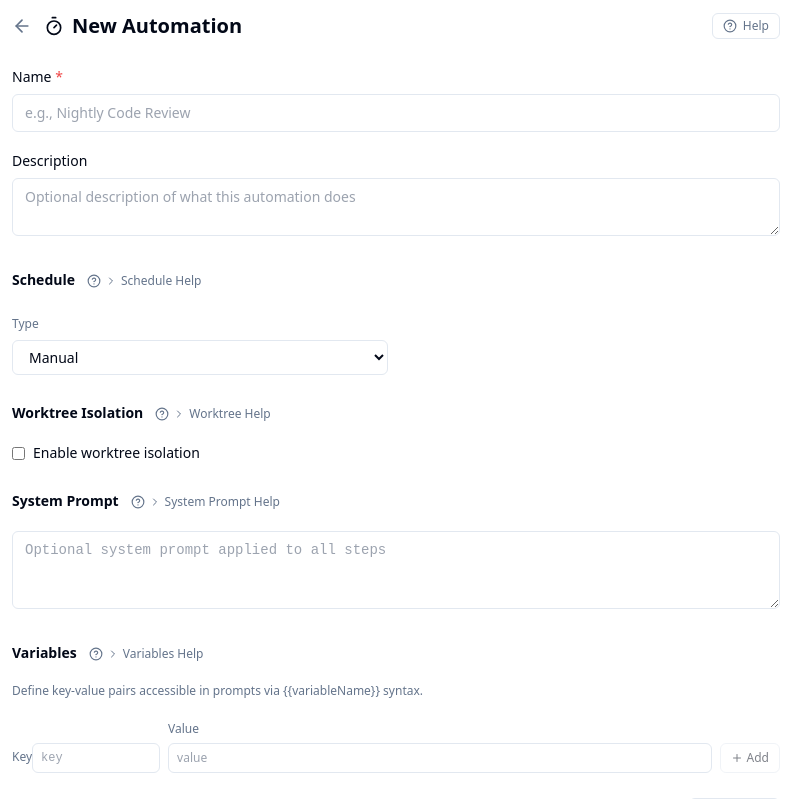
Test: AutomationEditorPage › shows 'Run At' input when schedule type is set to once
This screenshot has width=797, height=799.
Expected: the field labelled "Run At" is not shown
Select "One-time" in the dropdown labelled "Type" at (200, 358), box [12,340,388,375]
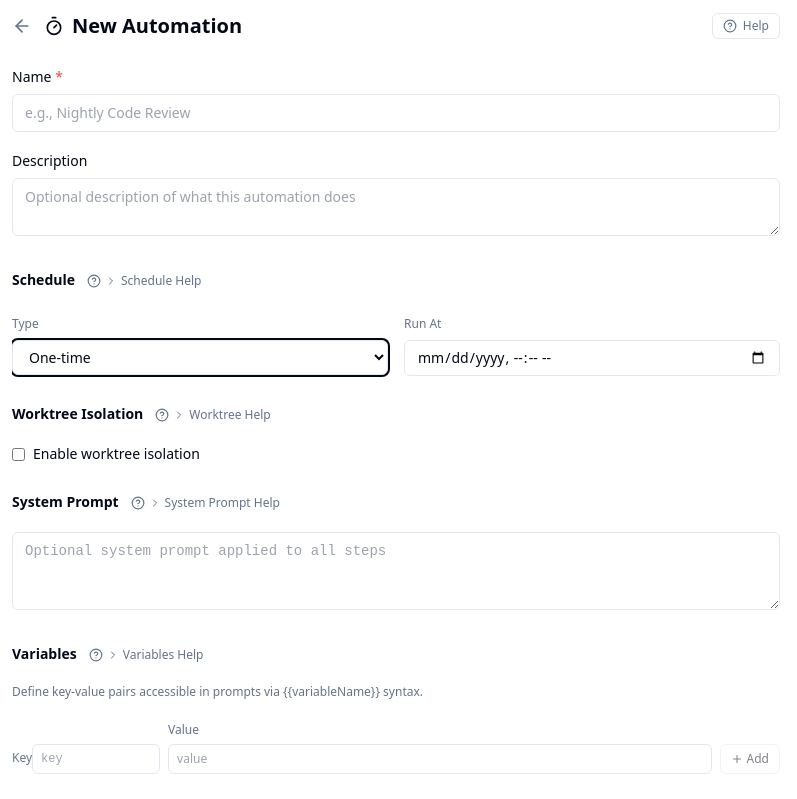
Expected: the field labelled "Run At" is shown, [404,340,780,376]
